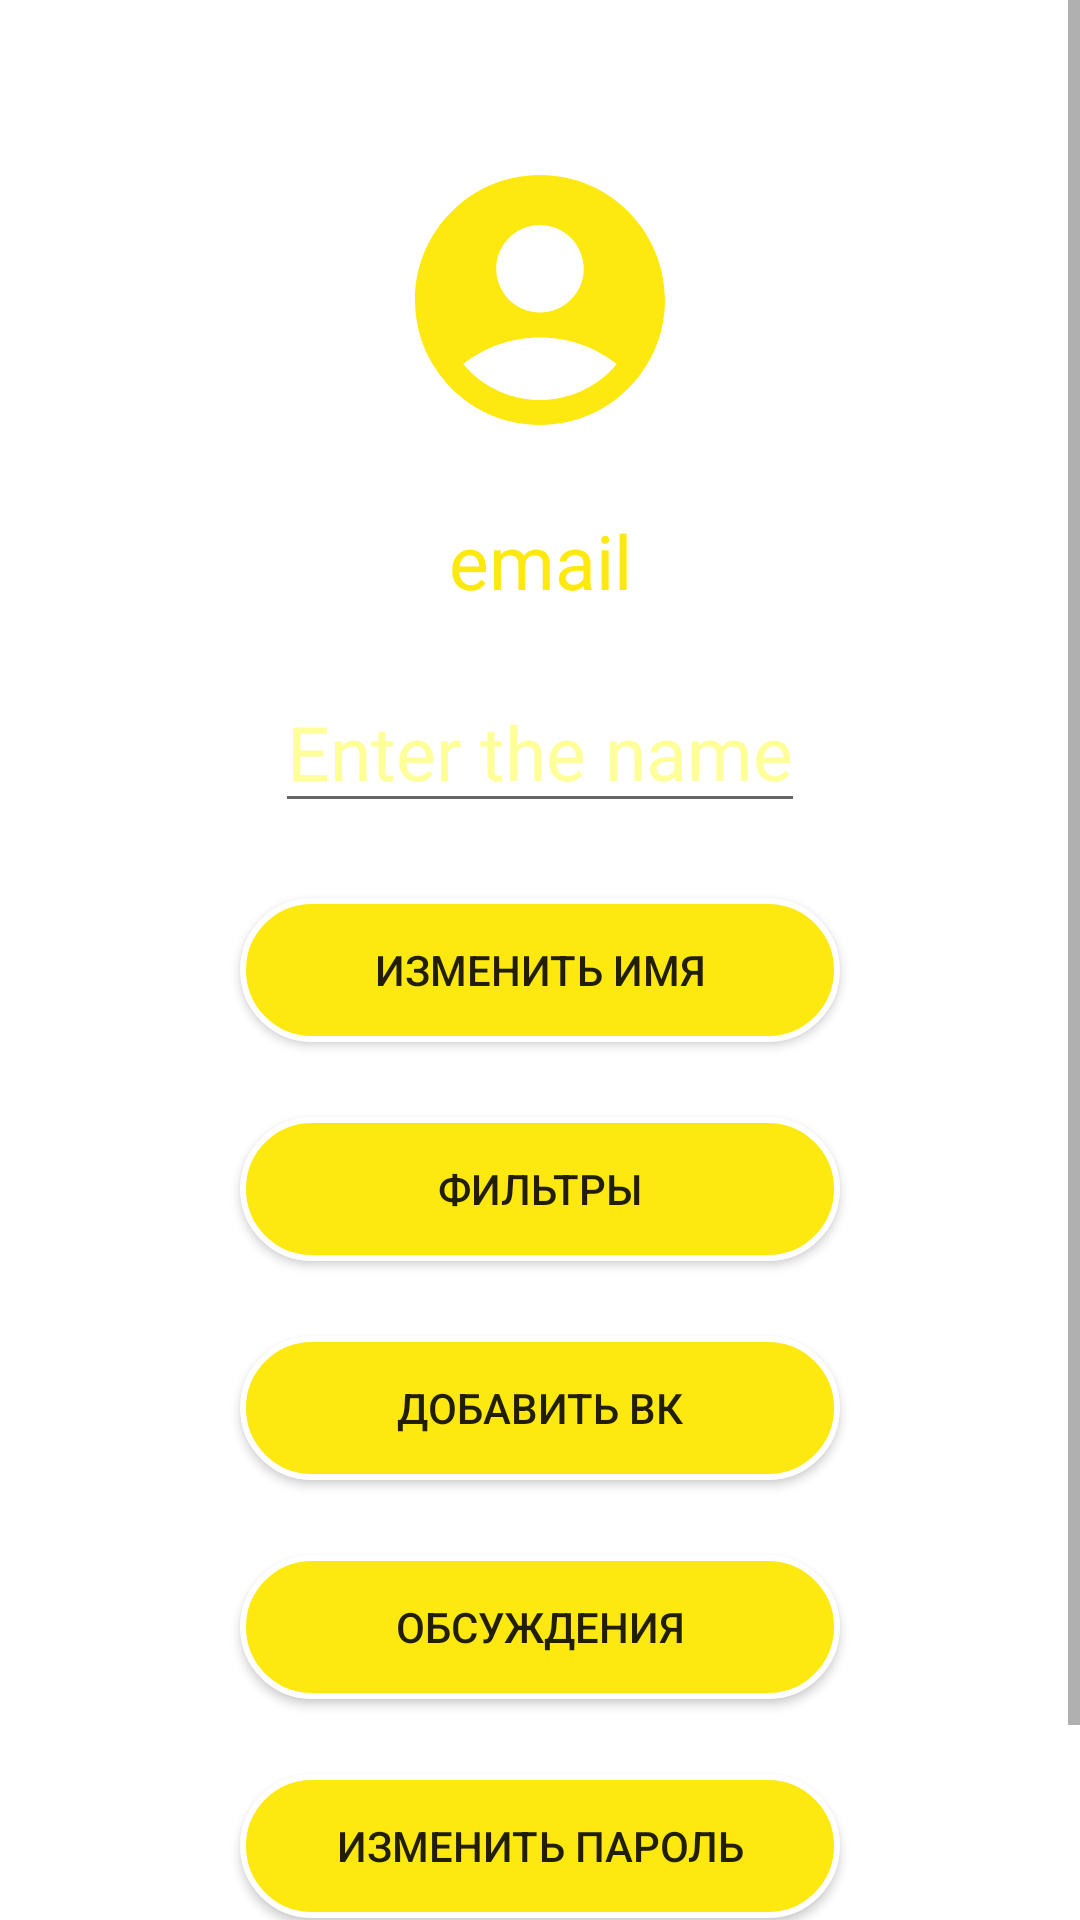

Where to tap for icons on this 1080x1920 app screen, as point (x, y):
account: point (540, 300)
